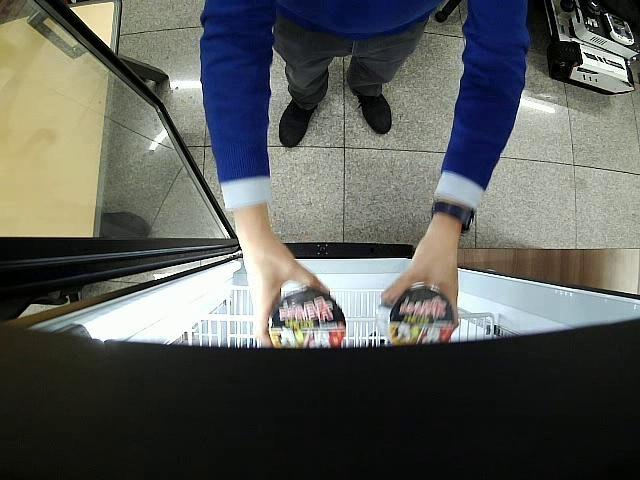08_buldak_S: (268, 289, 346, 348), (388, 284, 454, 344)
